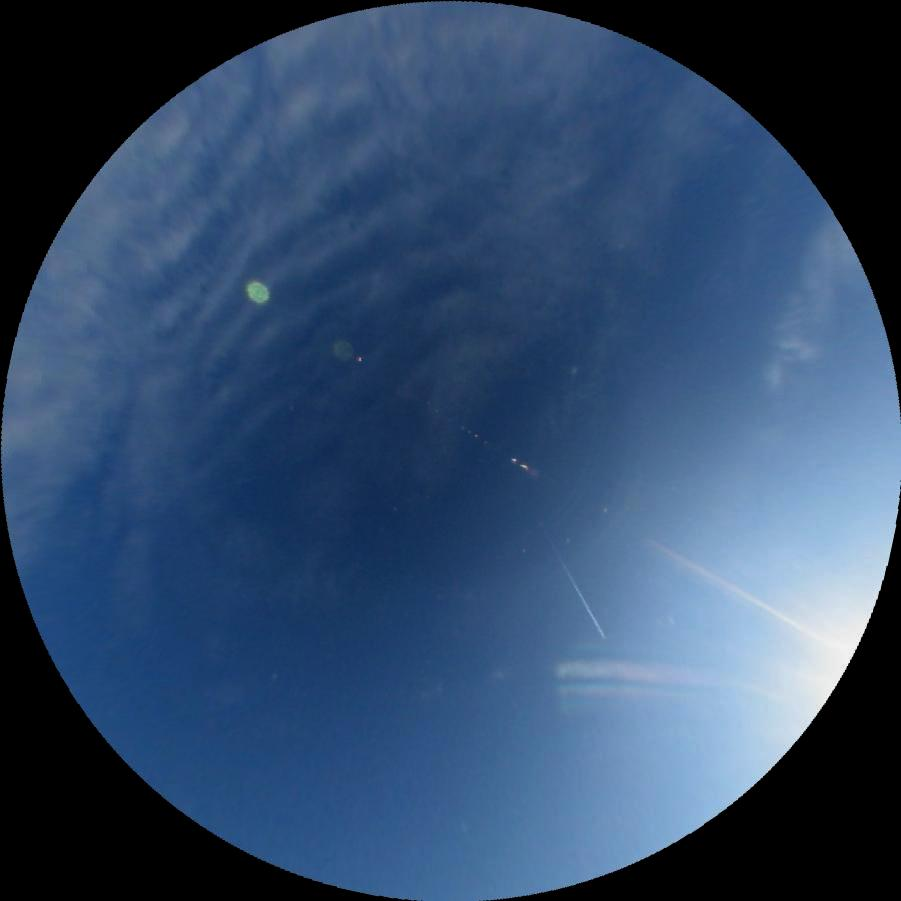contrail young: (546, 538, 607, 640)
parasite: (642, 534, 816, 640), (555, 655, 744, 693)
